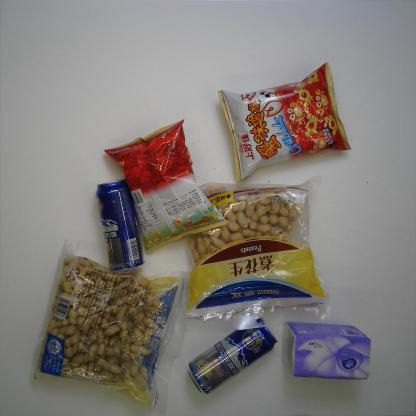Alcohol: (185, 314, 279, 398), (92, 178, 148, 276)
Dried Food: (22, 242, 190, 416), (176, 174, 336, 326)
Puffed Food: (101, 117, 230, 257), (217, 62, 353, 184)
Tissue: (280, 319, 373, 382)
